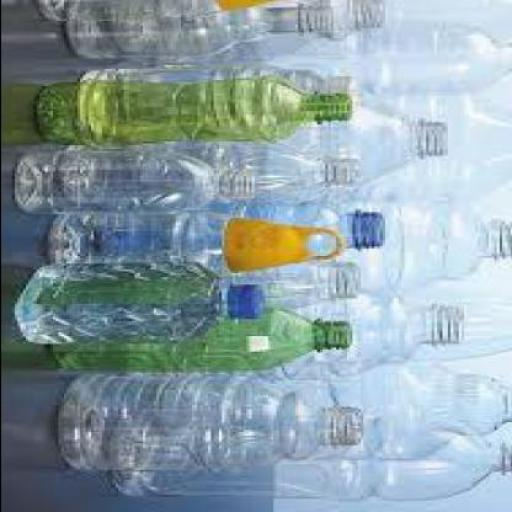plastic: (111, 420, 511, 504), (60, 374, 370, 474), (292, 350, 510, 462), (48, 308, 354, 376), (35, 80, 354, 144), (16, 264, 265, 345), (266, 292, 468, 384), (270, 26, 510, 98), (14, 149, 256, 220), (66, 2, 344, 61), (364, 96, 511, 206), (62, 208, 387, 255), (150, 2, 384, 63), (378, 196, 511, 302), (278, 109, 452, 188), (163, 143, 365, 210), (50, 214, 232, 278), (79, 69, 362, 107), (378, 305, 511, 367), (212, 260, 362, 311), (229, 222, 346, 276), (38, 2, 286, 24), (378, 1, 511, 42), (227, 286, 267, 323), (221, 2, 280, 12)
